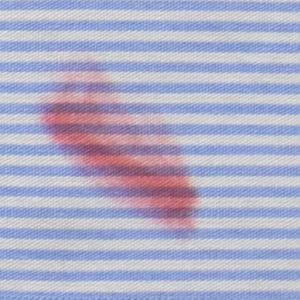Stain: (32, 49, 208, 250)
